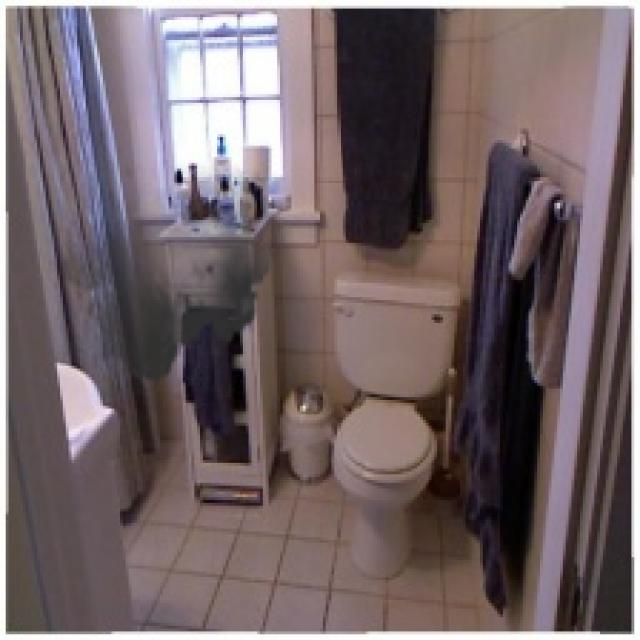smoke: (54, 154, 277, 392)
